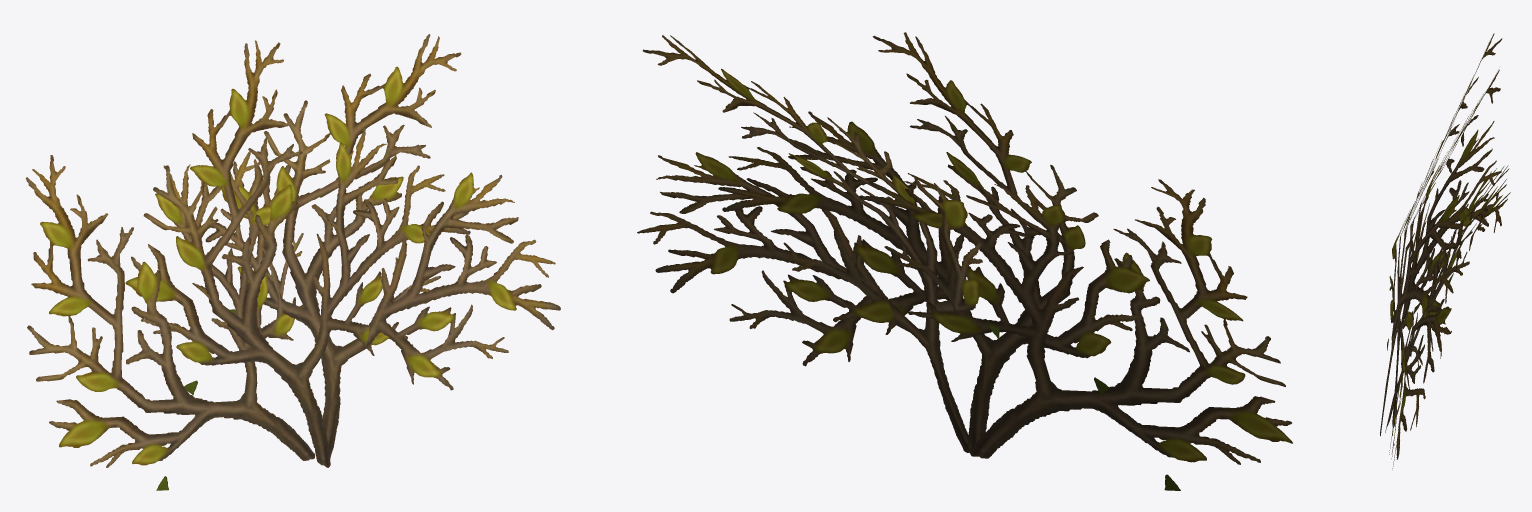
File: grass_06.FBX
3 renders of one model, left to right at view 1: azimuth 30°, elevation 25°; view 2: azimuth 150°, elevation 25°; view 3: azimuth 270°, elevation 25°, orthographic. The views are drawn at different scales.
Visible parts, largest first — view 1: Plane045; view 2: Plane045; view 3: Plane045.
Boxes of the visible parts, <box> form: Plane045: <box>25,34,560,490</box>; Plane045: <box>637,32,1292,490</box>; Plane045: <box>1380,33,1510,468</box>.
Size of the model in its own units: 326 by 235 by 73.92.
1 material, 1 textured.
